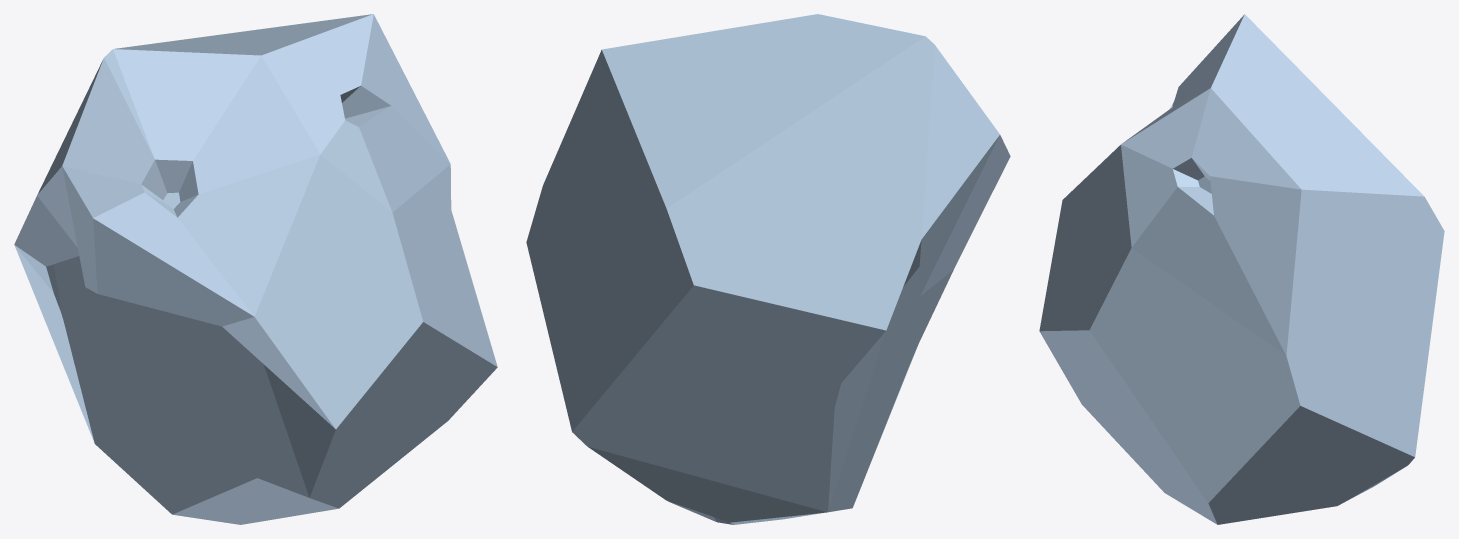
Rendered from Asteroid2.fbx.
3 views of the same model, side by side, from view 1: azimuth 30°, elevation 25°; view 2: azimuth 150°, elevation 25°; view 3: azimuth 270°, elevation 25° (orthographic). The views are drawn at different scales.
Visible parts, largest first — view 1: asteroid.001; view 2: asteroid.001; view 3: asteroid.001.
Part boxes in pixels (x1,y1,x2,y2): asteroid.001: (14,14,497,524); asteroid.001: (526,14,1010,524); asteroid.001: (1039,14,1444,524).
Bounding box in the file's own units: 211 × 239 × 199.
